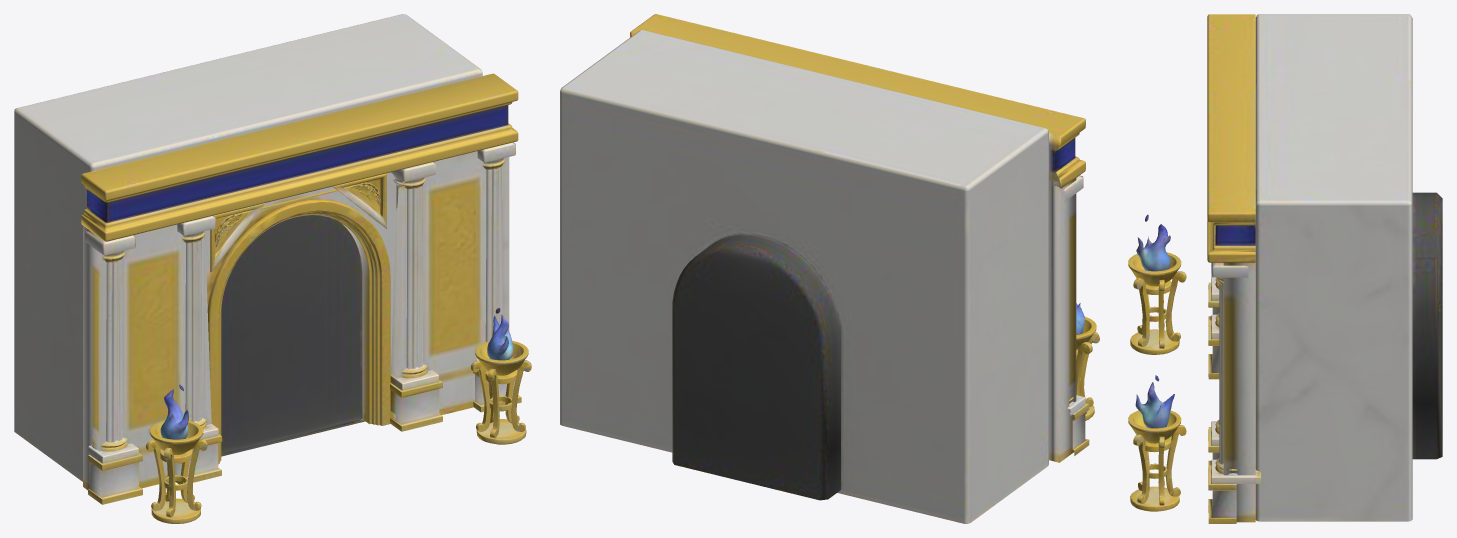
File: leyendas_porton.glb
3 views of the same model, side by side, from view 1: azimuth 30°, elevation 25°; view 2: azimuth 150°, elevation 25°; view 3: azimuth 270°, elevation 25° (orthographic). The views are drawn at different scales.
Parts seen in each view (by area): view 1: tripo_node_e30f80bc-bfa9-4316-adcb-111449ea8999; view 2: tripo_node_e30f80bc-bfa9-4316-adcb-111449ea8999; view 3: tripo_node_e30f80bc-bfa9-4316-adcb-111449ea8999.
Part boxes in pixels (bbox=[...]): tripo_node_e30f80bc-bfa9-4316-adcb-111449ea8999: bbox=[14, 14, 531, 523]; tripo_node_e30f80bc-bfa9-4316-adcb-111449ea8999: bbox=[560, 14, 1099, 523]; tripo_node_e30f80bc-bfa9-4316-adcb-111449ea8999: bbox=[1128, 14, 1442, 523].
Size of the model in its own units: 0.9995 by 0.7349 by 0.6553.
1 material, 1 textured.
